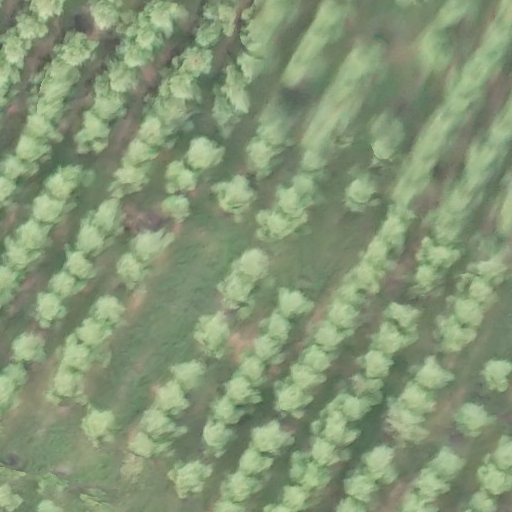eucalipto: (62, 332, 110, 371), (191, 309, 230, 357), (1, 231, 44, 272), (466, 147, 501, 193), (167, 462, 208, 501), (233, 244, 273, 283), (451, 403, 494, 439), (159, 70, 203, 105), (76, 111, 112, 153), (241, 143, 283, 179), (369, 110, 399, 160), (252, 114, 297, 147), (435, 315, 473, 354), (291, 451, 328, 491), (136, 115, 178, 150), (55, 30, 98, 64), (135, 1, 180, 33), (90, 198, 125, 239), (13, 131, 56, 164), (129, 230, 167, 267), (217, 277, 257, 312), (184, 137, 226, 170), (214, 178, 256, 211), (345, 259, 384, 294), (389, 403, 426, 439), (448, 76, 484, 113), (255, 208, 295, 241), (174, 45, 214, 77), (93, 86, 128, 122), (64, 246, 99, 282), (82, 404, 117, 440), (144, 405, 178, 442), (111, 166, 149, 199), (422, 29, 455, 67), (24, 114, 67, 143), (310, 7, 350, 38), (30, 192, 66, 226), (53, 365, 87, 401), (344, 173, 378, 209), (14, 218, 51, 251), (75, 222, 107, 260), (220, 473, 259, 504), (1, 25, 29, 68), (429, 446, 463, 481), (10, 331, 47, 363), (411, 468, 448, 500), (42, 169, 80, 200), (481, 358, 512, 396), (72, 317, 111, 347), (442, 189, 482, 218), (163, 162, 199, 194), (419, 239, 455, 271), (346, 43, 383, 74), (155, 382, 188, 416), (418, 356, 452, 389), (318, 415, 354, 446), (1, 154, 39, 183), (362, 239, 395, 272), (478, 465, 512, 497), (364, 446, 395, 481), (43, 57, 80, 86), (224, 374, 256, 407), (475, 253, 507, 286), (125, 135, 159, 166), (91, 296, 125, 327), (402, 383, 437, 413), (13, 11, 49, 40), (451, 297, 483, 329), (90, 1, 120, 35), (34, 292, 68, 322), (273, 288, 309, 316), (252, 425, 287, 453), (235, 50, 266, 81), (109, 59, 139, 91), (49, 269, 79, 301), (114, 255, 144, 287), (118, 37, 151, 66), (416, 128, 449, 157), (129, 25, 163, 53), (379, 214, 407, 248), (464, 275, 491, 310), (1, 268, 24, 309), (428, 215, 463, 241), (251, 333, 281, 363), (172, 360, 203, 389), (386, 300, 417, 329), (310, 443, 341, 472), (280, 387, 308, 419), (288, 364, 321, 391), (351, 375, 384, 402), (192, 18, 221, 48), (238, 356, 267, 385), (294, 179, 322, 209), (210, 397, 241, 424), (160, 195, 190, 222), (413, 266, 443, 293), (339, 284, 374, 307), (202, 425, 229, 454), (361, 352, 392, 377), (29, 1, 67, 21), (324, 302, 357, 325), (281, 484, 314, 507), (378, 326, 404, 355), (240, 451, 271, 475), (345, 476, 376, 500), (301, 347, 331, 371), (316, 324, 346, 348), (401, 158, 431, 182), (1, 363, 30, 387), (494, 434, 512, 472), (130, 431, 156, 456), (266, 314, 289, 338), (338, 396, 361, 420), (470, 493, 496, 512), (1, 375, 16, 404), (335, 498, 365, 512)
